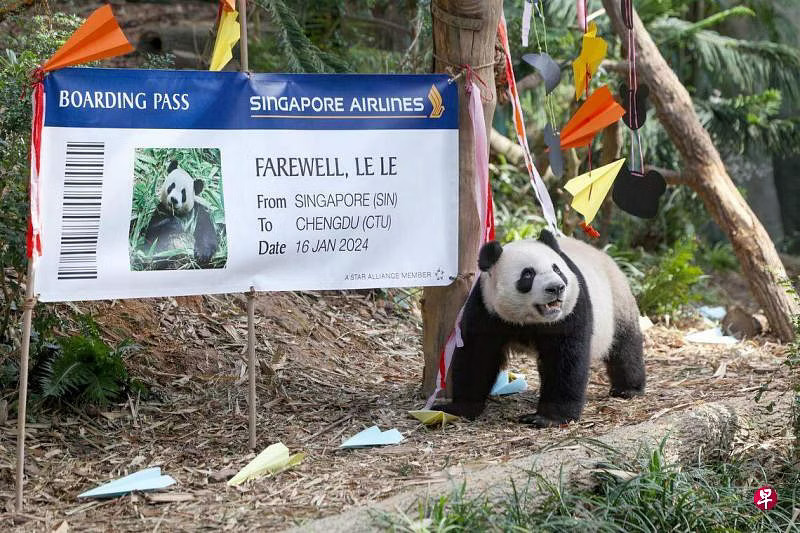Giant panda: (476, 229, 578, 327), (153, 158, 204, 215)
